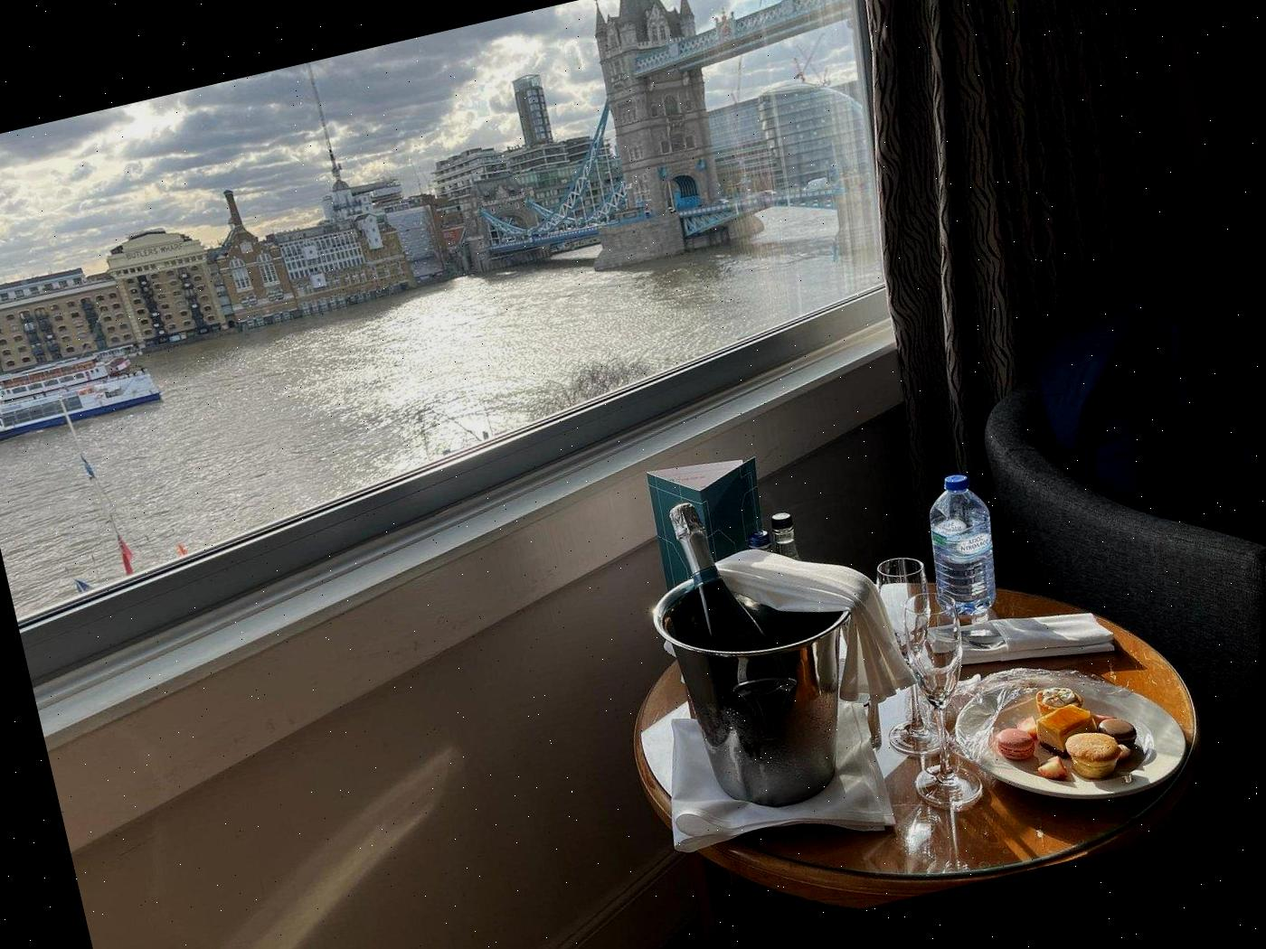chair: (985, 299, 1266, 811)
messy_table: (636, 459, 1199, 872)
